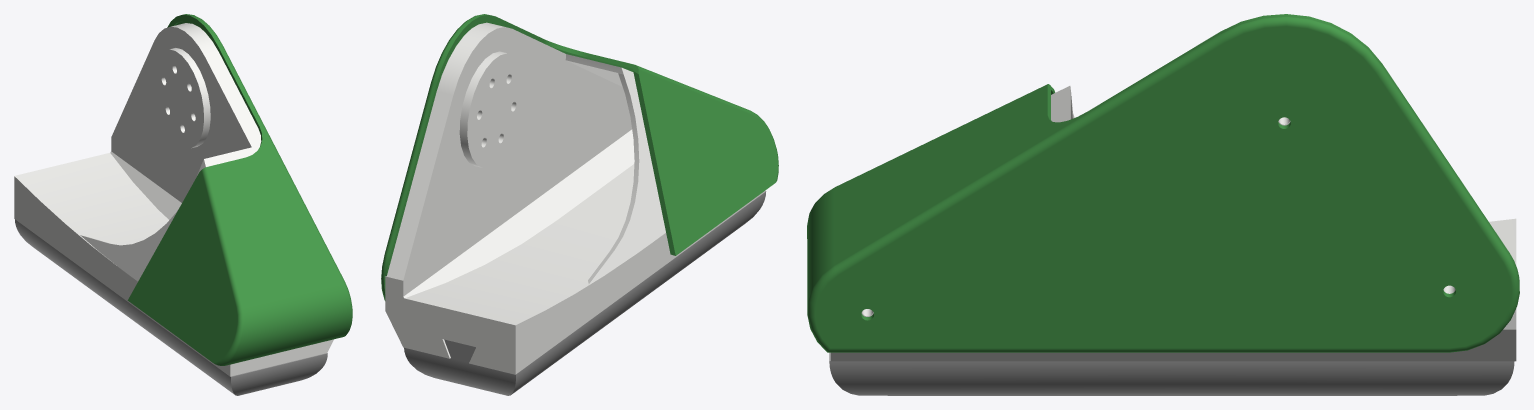
The model's file is FootPadLeft.dae.
3 renders of one model, left to right at view 1: azimuth 30°, elevation 25°; view 2: azimuth 150°, elevation 25°; view 3: azimuth 270°, elevation 25°, orthographic. The views are drawn at different scales.
Parts seen in each view (by area): view 1: FootPadLeft; view 2: FootPadLeft; view 3: FootPadLeft.
Part boxes in pixels (left/top/right/bottom): FootPadLeft: left=14, top=14, right=352, bottom=395; FootPadLeft: left=381, top=14, right=778, bottom=395; FootPadLeft: left=807, top=14, right=1519, bottom=395.
Bounding box in the file's own units: 0.0587 × 0.1768 × 0.1128.
